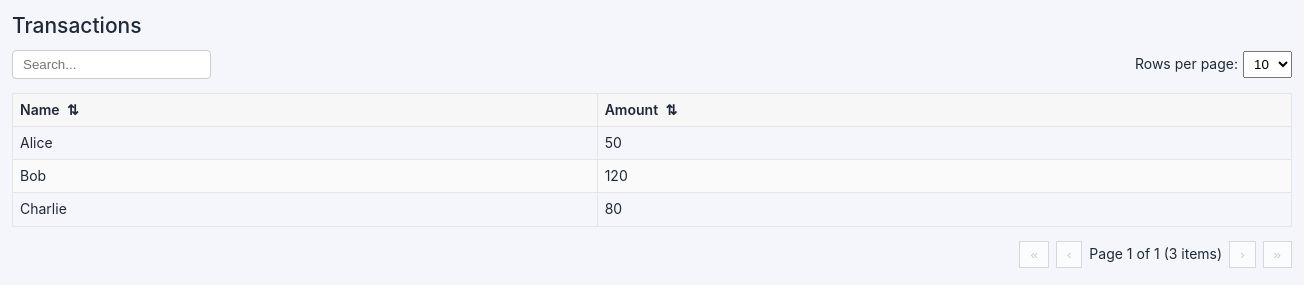
Test: Table › filters visible rows when the user types in the search box
The width and height of the screenshot is (1304, 285).
Type "bob" into the field with placeholder "Search..." at [112, 64], box [12, 50, 211, 79]
Wait 300 ms
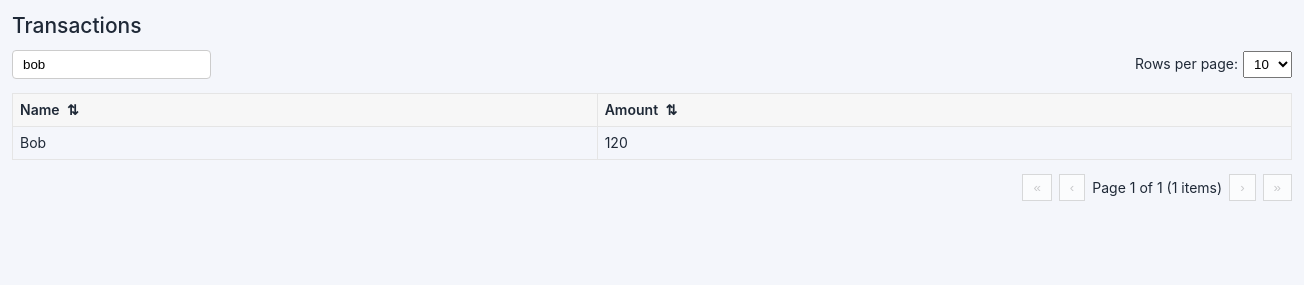
Expected: the text "Bob" is shown, [12, 126, 597, 160]
Now the text "Alice" is gone
